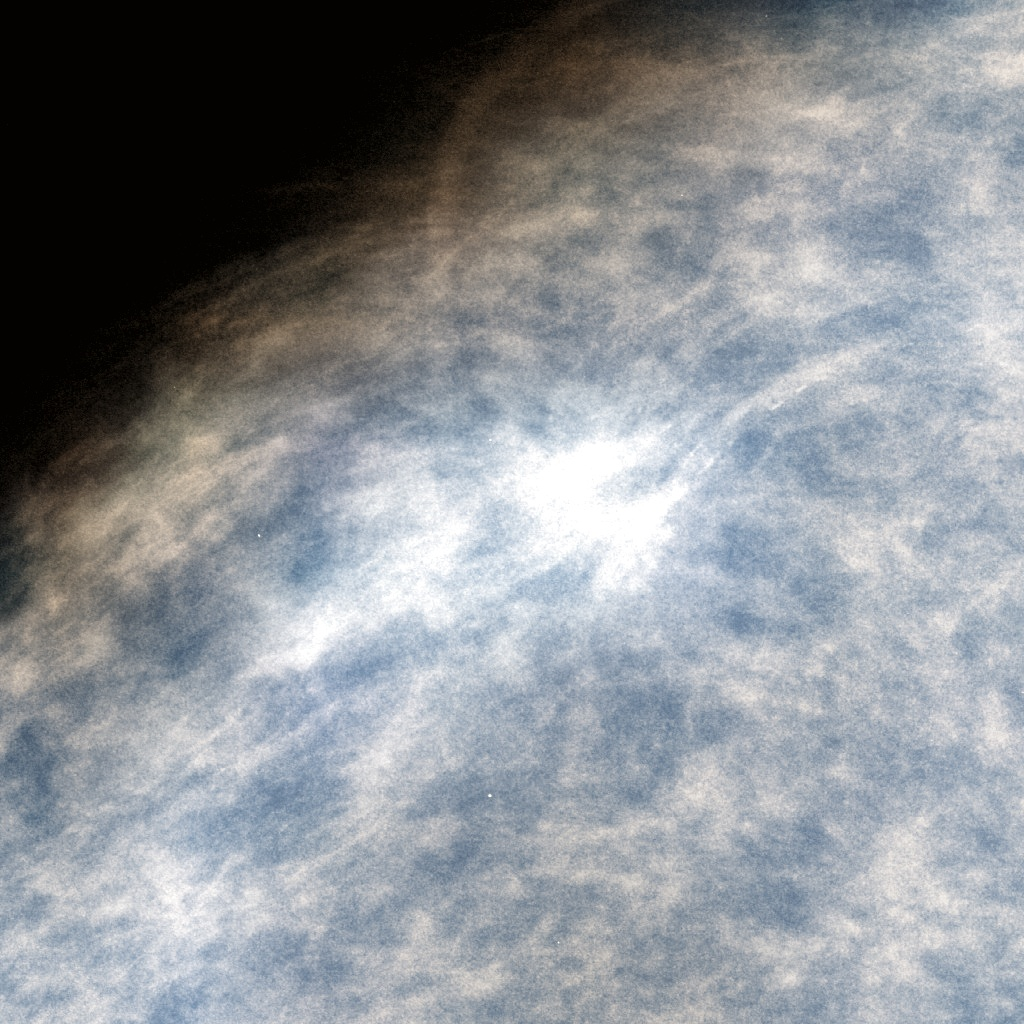tumor: (314, 339, 710, 685)
